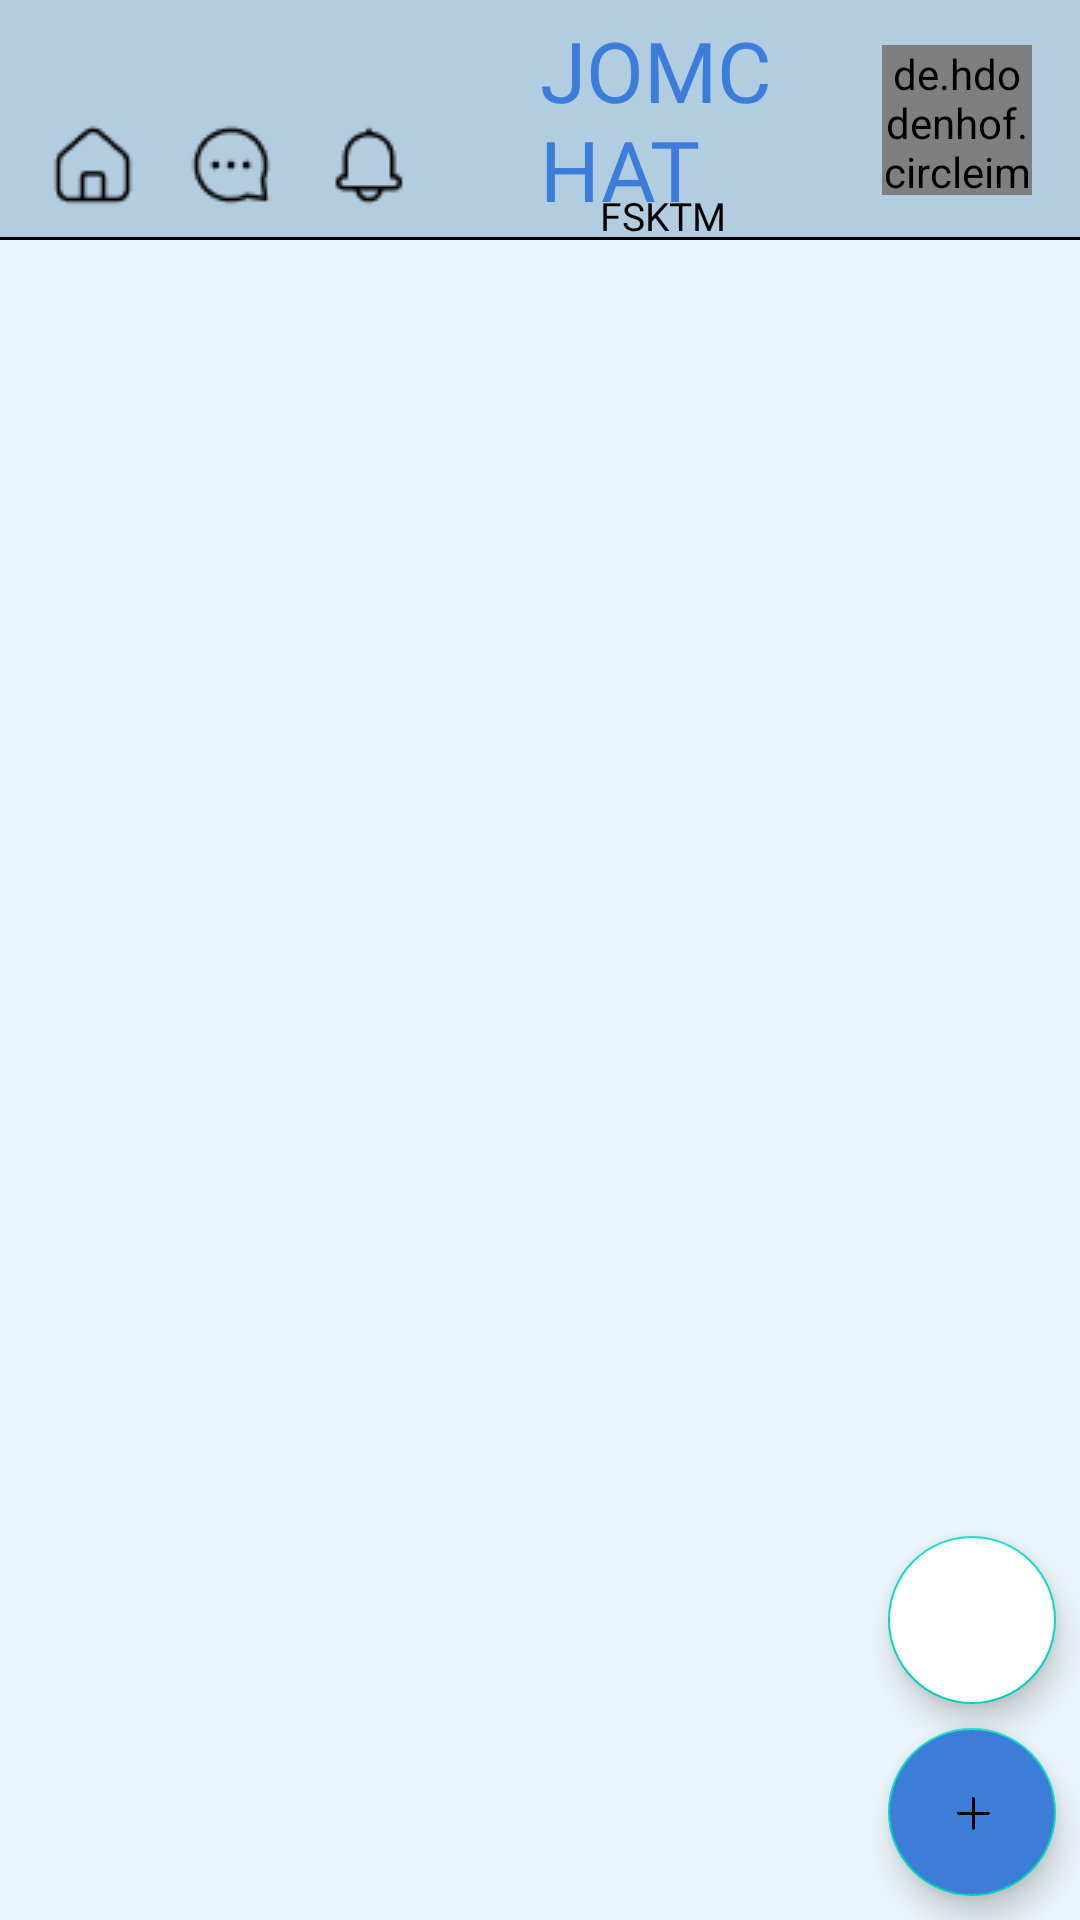

Screen size 1080x1920. Icon name, then its box in pixels as (x1, y1, x2, y2):
add: (888, 1728, 1056, 1896)
home: (54, 126, 132, 204)
messenger: (192, 126, 270, 204)
notification: (335, 127, 403, 204)
